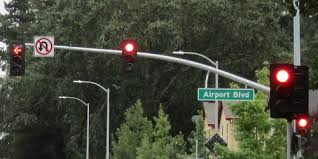signal: (270, 64, 295, 115), (120, 37, 137, 72), (8, 42, 25, 76), (295, 112, 310, 135)
